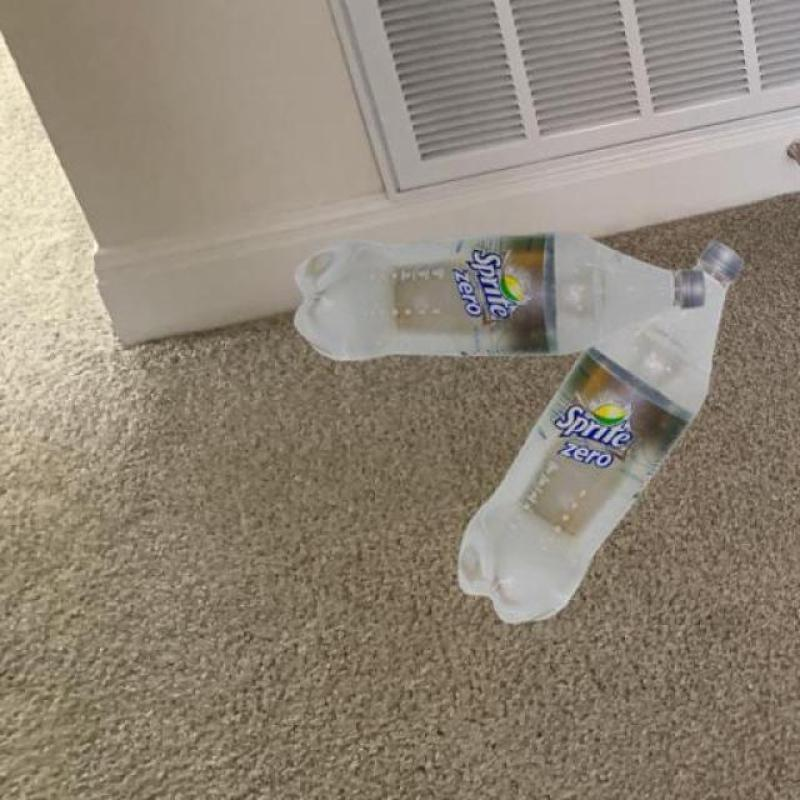botella: (458, 238, 744, 630), (289, 233, 701, 362)
